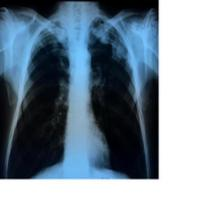tuberculosis: (3, 11, 152, 179)
